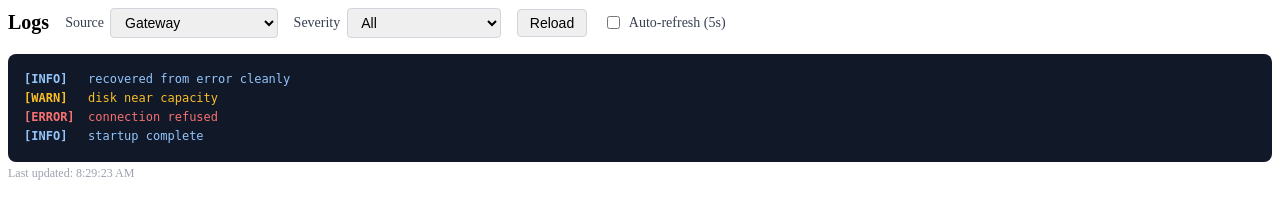
it: LogsPage › filters by parsed `level`, not by substring: warnings-only hides an INFO line whose message contains 'error' (#42)
This screenshot has width=1280, height=197.
Expected: the text "recovered from error cleanly" is shown, [88,72,290,86]
Expected: the text "disk near capacity" is shown, [88,91,218,105]
// Switch to warnings & errors only.
Step 1. Select "Warnings & errors" in the dropdown named "Severity filter" → (424, 23), box [347,8,501,38]
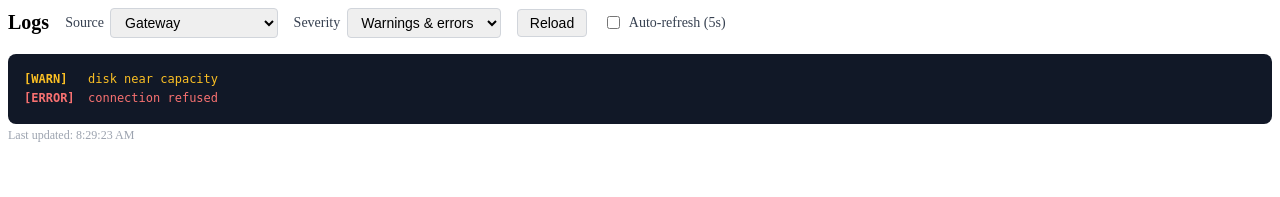
Expected: the text "disk near capacity" is shown, [88,72,218,86]
Expected: the text "connection refused" is shown, [88,91,218,105]
Expected: the text "recovered from error cleanly" is gone
